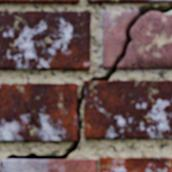brick: (0, 11, 90, 69), (84, 80, 171, 138), (0, 83, 76, 140), (1, 159, 96, 171), (100, 158, 171, 171), (87, 0, 171, 2), (0, 0, 79, 2)
broken_brick: (119, 13, 171, 69), (101, 10, 136, 69)
crack: (0, 2, 171, 169), (23, 101, 52, 141)
